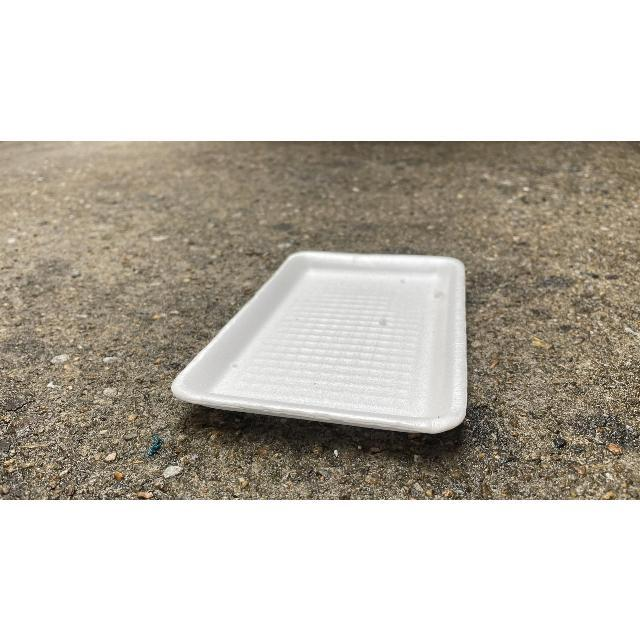Recipiente plastico: (171, 251, 468, 433)
